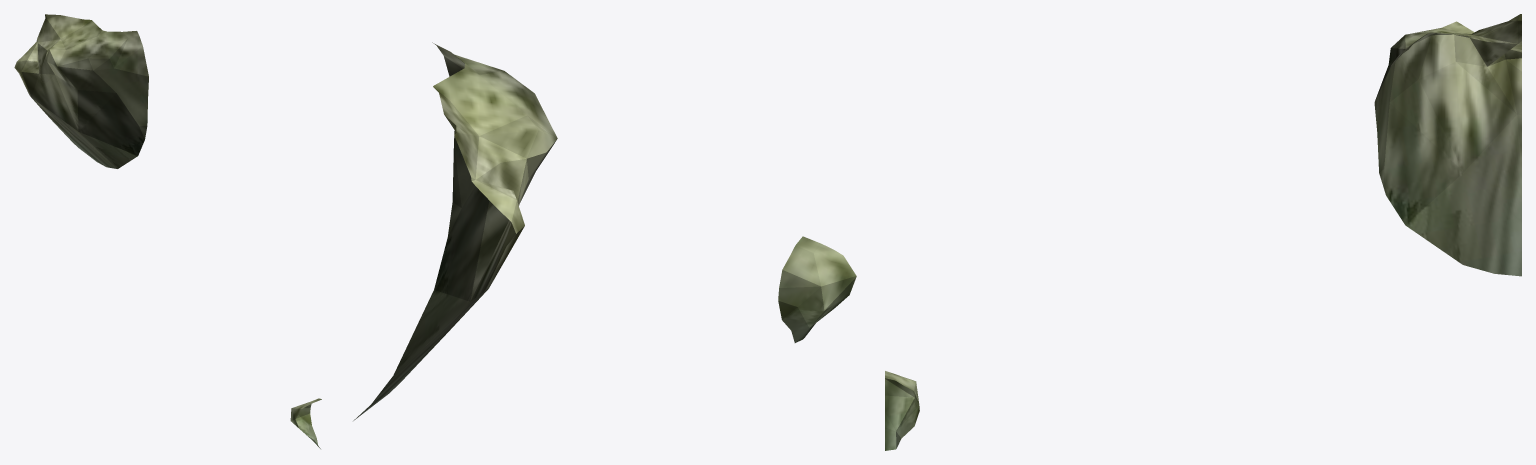
The picture shows the model from 3 angles, left to right: view 1: azimuth 30°, elevation 25°; view 2: azimuth 150°, elevation 25°; view 3: azimuth 270°, elevation 25°; orthographic projection. The views are drawn at different scales.
Size of the model in its own units: 0.6216 by 2.05 by 2.95.
Materials: 1 (1 with a texture image).
